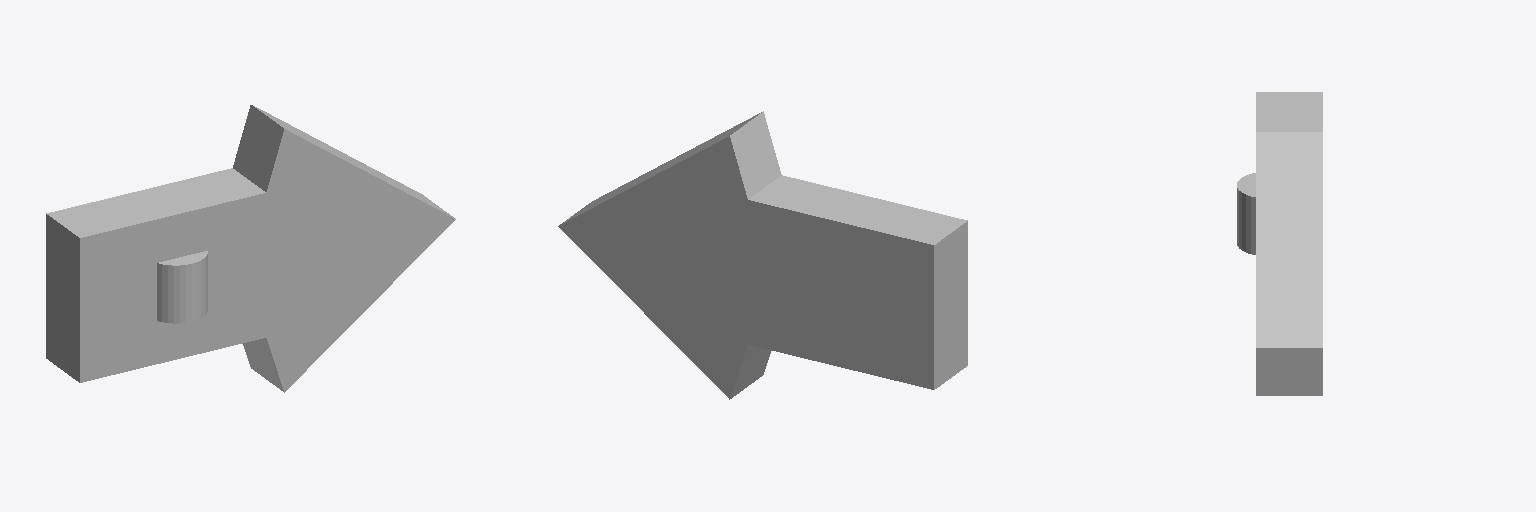
File: IndicatorArrow.obj
The picture shows the model from 3 angles: view 1: azimuth 30°, elevation 25°; view 2: azimuth 150°, elevation 25°; view 3: azimuth 270°, elevation 25°; orthographic projection.
Visible parts, largest first — view 1: Arrow, RadioOnButton; view 2: Arrow; view 3: Arrow, RadioOnButton.
Boxes of the visible parts, <box> form: Arrow: <box>46,105,455,392</box>; RadioOnButton: <box>157,251,207,323</box>; Arrow: <box>558,111,967,399</box>; Arrow: <box>1256,92,1322,395</box>; RadioOnButton: <box>1237,173,1255,254</box>.
Size of the model in its own units: 0.2909 by 0.195 by 0.0581.